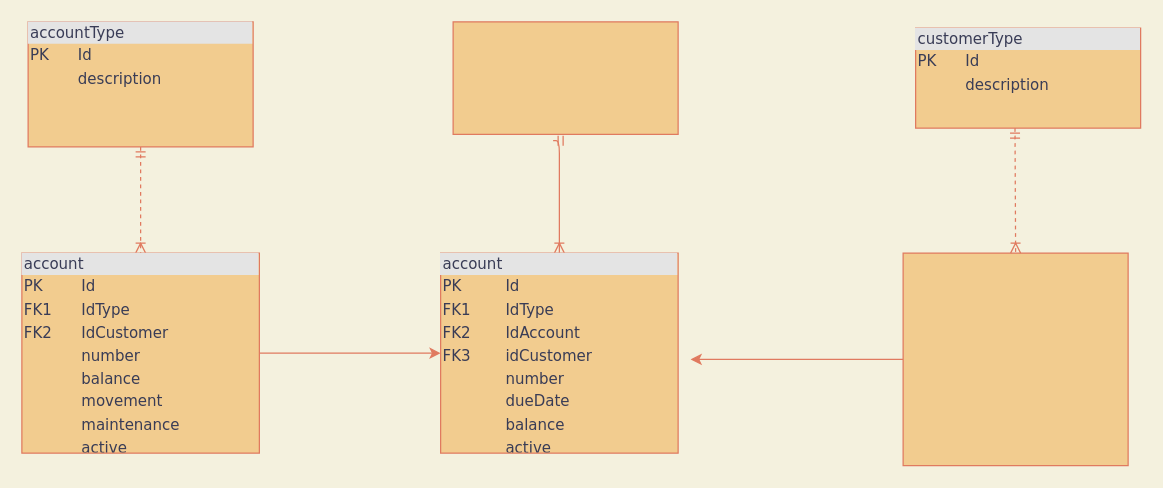
This 1163x488 diagram has some shape labels left out. Each missing label, with the centre of its shape:
"cardType PK Id description" belongs at point (565, 77).
"customer PK Id FK1 idType firstName lastName age numberPhone email active" belongs at point (1015, 359).
